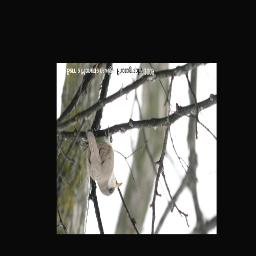Cuckoo: (85, 127, 122, 197)
